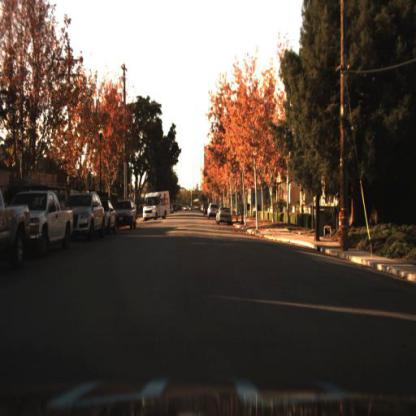car: (28, 185, 77, 261), (65, 190, 105, 239), (70, 190, 104, 243), (143, 188, 173, 223), (115, 192, 138, 233), (216, 205, 234, 228), (105, 198, 117, 231), (208, 202, 220, 223)
truck: (141, 187, 176, 225)
